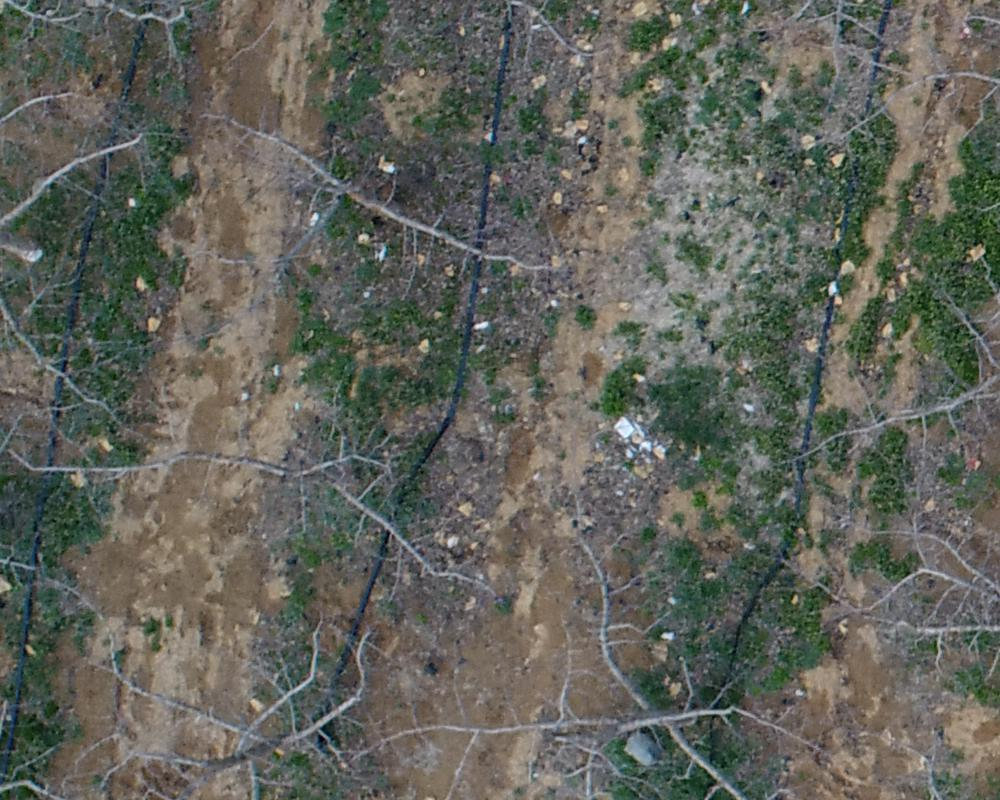apple: (43, 365, 522, 637), (172, 77, 578, 334), (431, 537, 832, 790), (63, 608, 423, 790), (764, 220, 990, 497), (822, 485, 990, 711)
